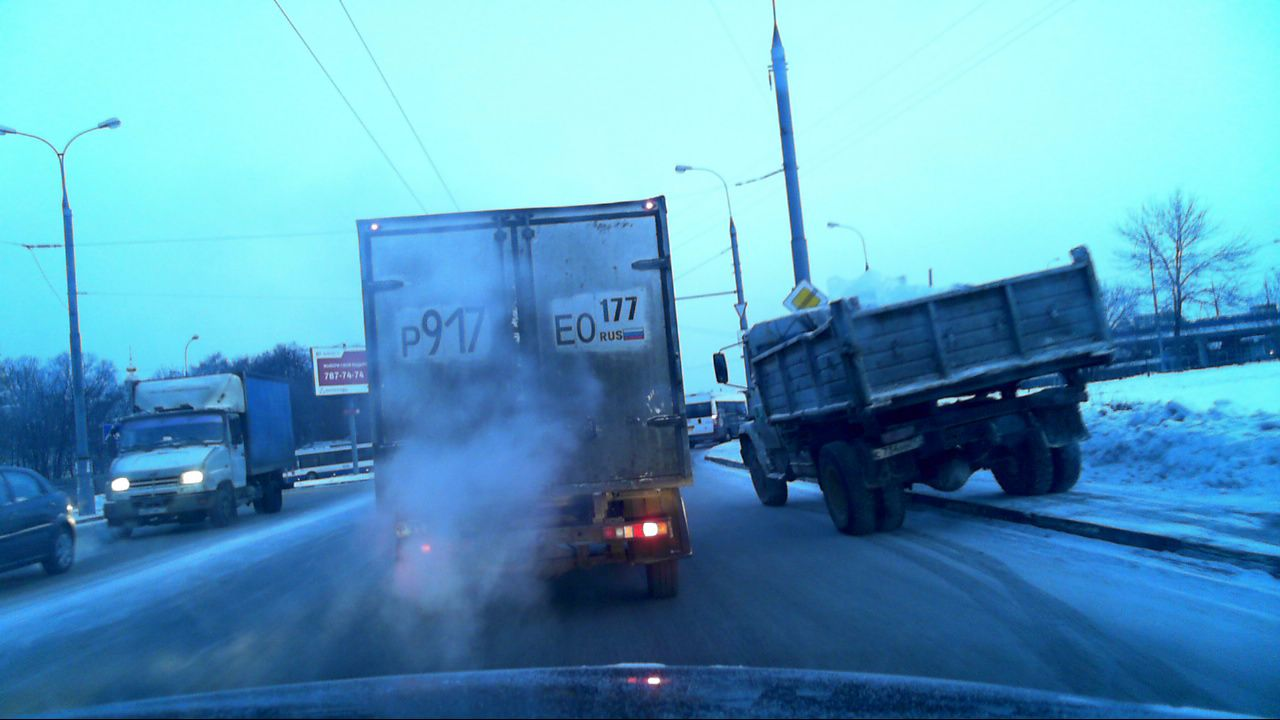main road: (782, 280, 827, 322)
